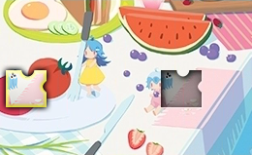gap: (161, 70, 202, 106)
